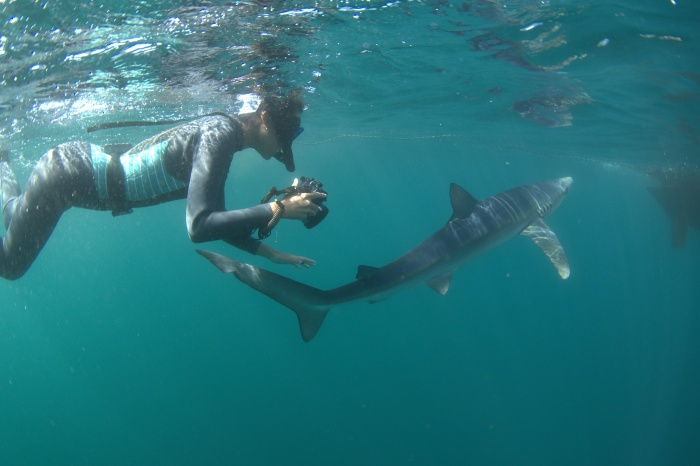Azul: (185, 164, 588, 370)
